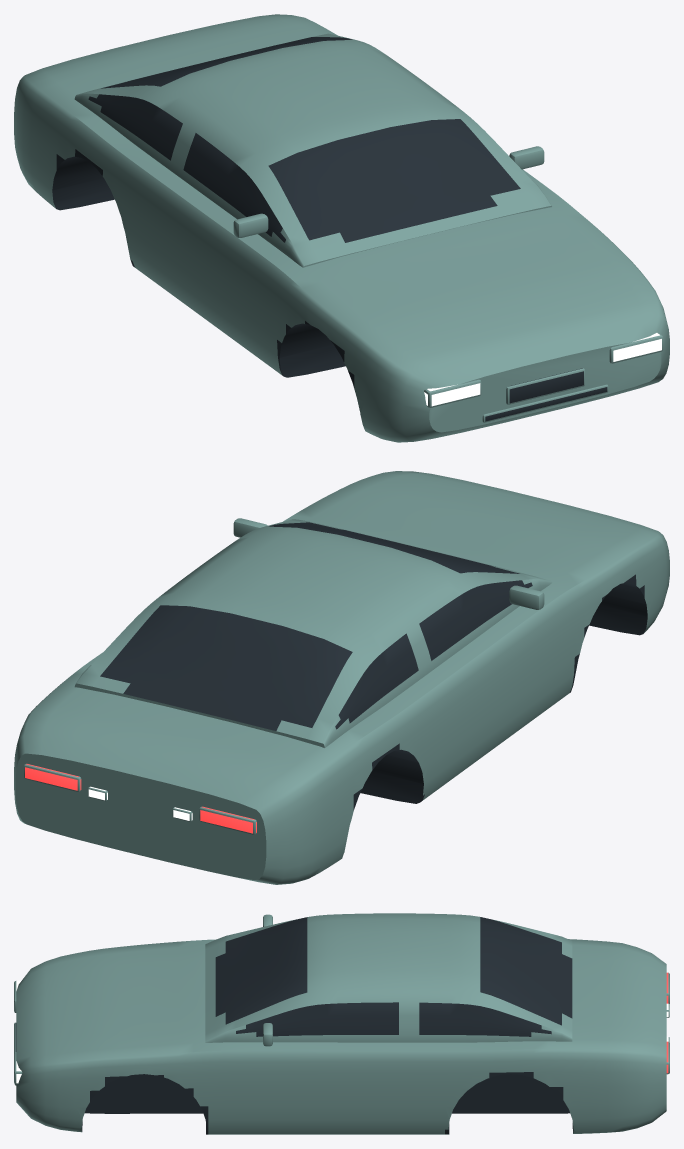
File: CarBody_Blender.glb
3 views of the same model, one above another, from view 1: azimuth 30°, elevation 25°; view 2: azimuth 150°, elevation 25°; view 3: azimuth 270°, elevation 25° (orthographic). The views are drawn at different scales.
Visible parts, largest first — view 1: CarBody; view 2: CarBody; view 3: CarBody.
Part boxes in pixels (x1=…): CarBody: x1=14, y1=14, x2=669, y2=442; CarBody: x1=14, y1=471, x2=669, y2=884; CarBody: x1=14, y1=913, x2=669, y2=1134.
Size of the model in its own units: 1.96 by 1.06 by 4.51.
